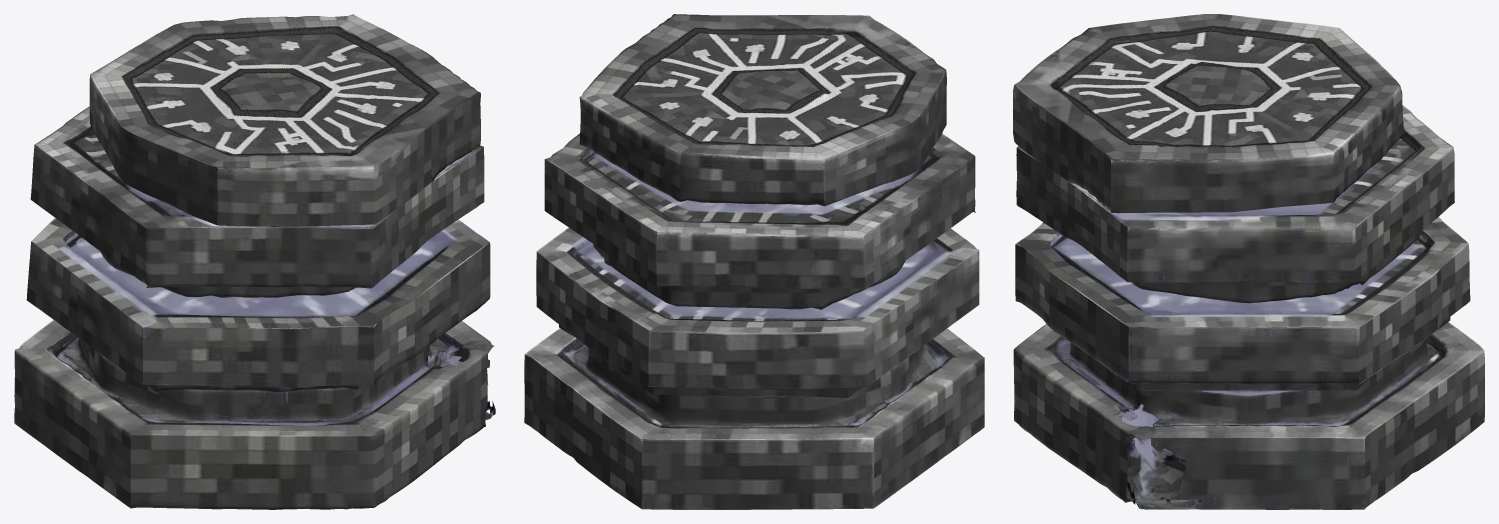
File: hexagonal_tokens.glb
The picture shows the model from 3 angles, left to right: view 1: azimuth 30°, elevation 25°; view 2: azimuth 150°, elevation 25°; view 3: azimuth 270°, elevation 25°; orthographic projection. The views are drawn at different scales.
Parts seen in each view (by area): view 1: Mesh_0; view 2: Mesh_0; view 3: Mesh_0.
Part boxes in pixels (x1=…): Mesh_0: x1=14, y1=14, x2=495, y2=509; Mesh_0: x1=524, y1=14, x2=984, y2=509; Mesh_0: x1=1013, y1=14, x2=1484, y2=509.
Size of the model in its own units: 1.69 by 1.51 by 1.91.
Materials: 1 (1 with a texture image).
